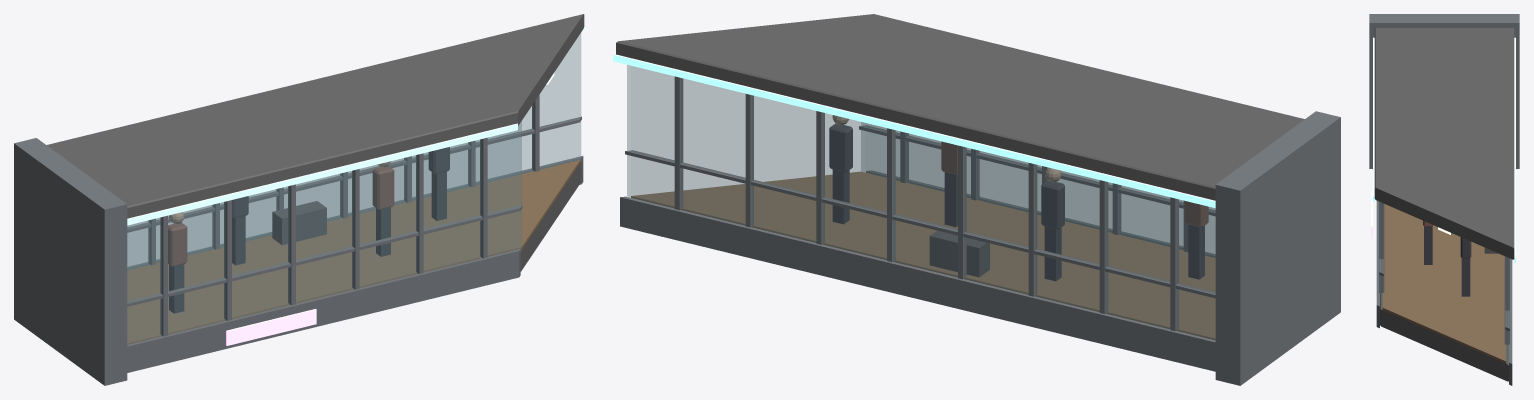
File: bridge82.glb
3 views of the same model, side by side, from view 1: azimuth 30°, elevation 25°; view 2: azimuth 150°, elevation 25°; view 3: azimuth 270°, elevation 25° (orthographic). The views are drawn at different scales.
Parts seen in each view (by area): view 1: b82-roof, b82-glass, b82-floor, b82-collar, b82-glass.001, b82-edge-l, b82-fascia-l, b82-rail, b82-rail.001, b82-bench, b82-sign, b82-deck (+15 smaller); view 2: b82-glass.001, b82-roof, b82-floor, b82-collar, b82-edge-r, b82-glass, b82-fascia-r, b82-rail.001, b82-bench, b82-rail, b82-mullion.013, b82-mullion.018 (+13 smaller); view 3: b82-roof, b82-floor, b82-collar, b82-deck, b82-mullion.006, b82-mullion.018, b82-fascia-r, b82-edge-r, b82-edge-l, b82-legs.003, b82-legs.002, b82-fascia-l (+1 smaller).
Part boxes in pixels (<box>): b82-roof: <box>46,14,584,218</box>; b82-glass: <box>127,121,521,343</box>; b82-floor: <box>127,160,580,344</box>; b82-collar: <box>14,138,127,385</box>; b82-glass.001: <box>127,33,580,269</box>; b82-edge-l: <box>127,249,520,372</box>; b82-fascia-l: <box>127,123,517,225</box>; b82-rail: <box>127,205,522,306</box>; b82-rail.001: <box>127,116,581,232</box>; b82-bench: <box>272,201,326,245</box>; b82-sign: <box>226,309,316,345</box>; b82-deck: <box>520,162,581,271</box>; b82-glass.001: <box>627,65,1215,339</box>; b82-roof: <box>616,14,1304,200</box>; b82-floor: <box>631,171,1215,340</box>; b82-collar: <box>1215,111,1340,385</box>; b82-edge-r: <box>620,196,1215,371</box>; b82-glass: <box>861,122,1215,257</box>; b82-fascia-r: <box>613,54,1215,208</box>; b82-rail.001: <box>625,150,1215,298</box>; b82-bench: <box>929,230,989,277</box>; b82-rail: <box>859,125,1215,215</box>; b82-mullion.013: <box>1028,163,1037,296</box>; b82-mullion.018: <box>674,76,683,210</box>; b82-roof: <box>1374,28,1514,259</box>; b82-floor: <box>1382,204,1506,363</box>; b82-collar: <box>1369,14,1519,168</box>; b82-deck: <box>1380,293,1508,381</box>; b82-mullion.006: <box>1379,201,1384,292</box>; b82-mullion.018: <box>1504,256,1509,344</box>; b82-fascia-r: <box>1514,37,1515,263</box>; b82-edge-r: <box>1509,258,1512,385</box>; b82-edge-l: <box>1376,200,1379,328</box>; b82-legs.003: <box>1461,258,1470,296</box>; b82-legs.002: <box>1424,226,1432,264</box>; b82-fascia-l: <box>1373,37,1374,201</box>.
Bounding box in the file's own units: 10.13 × 3 × 2.8.
